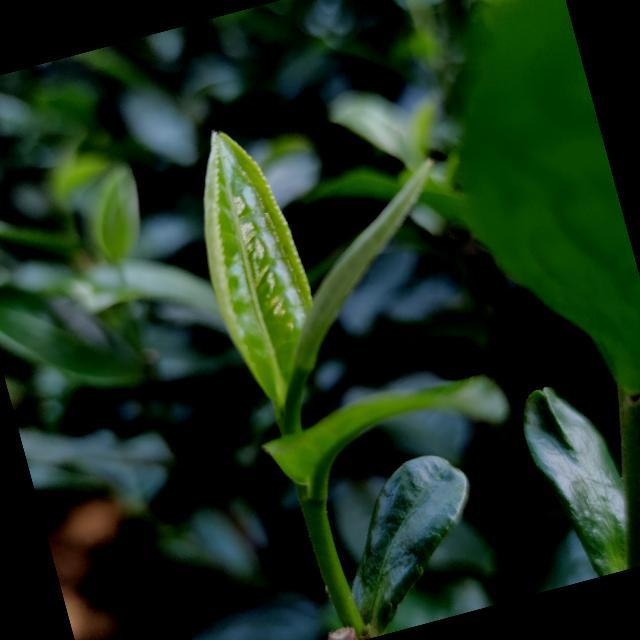Stem: (278, 410, 302, 433)
